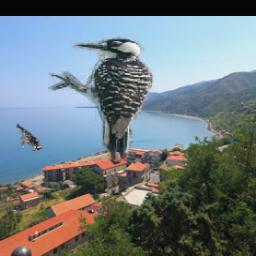Woodpecker: (46, 37, 155, 160), (18, 125, 43, 152)
